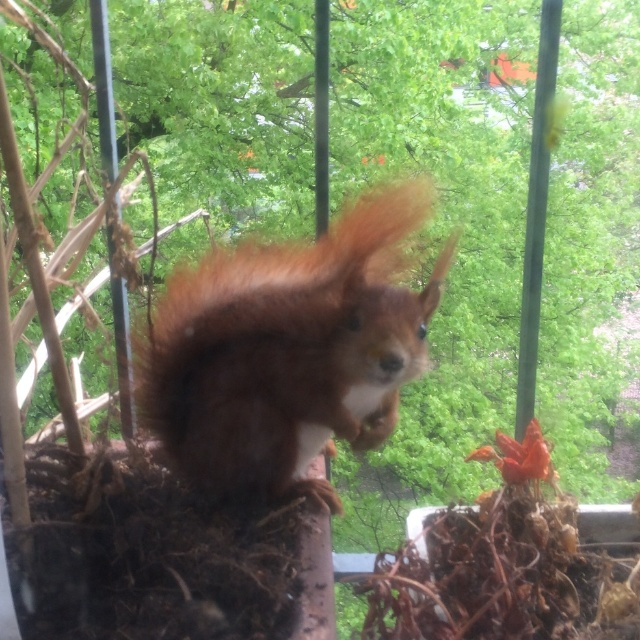Squirrel: (117, 167, 465, 519)
